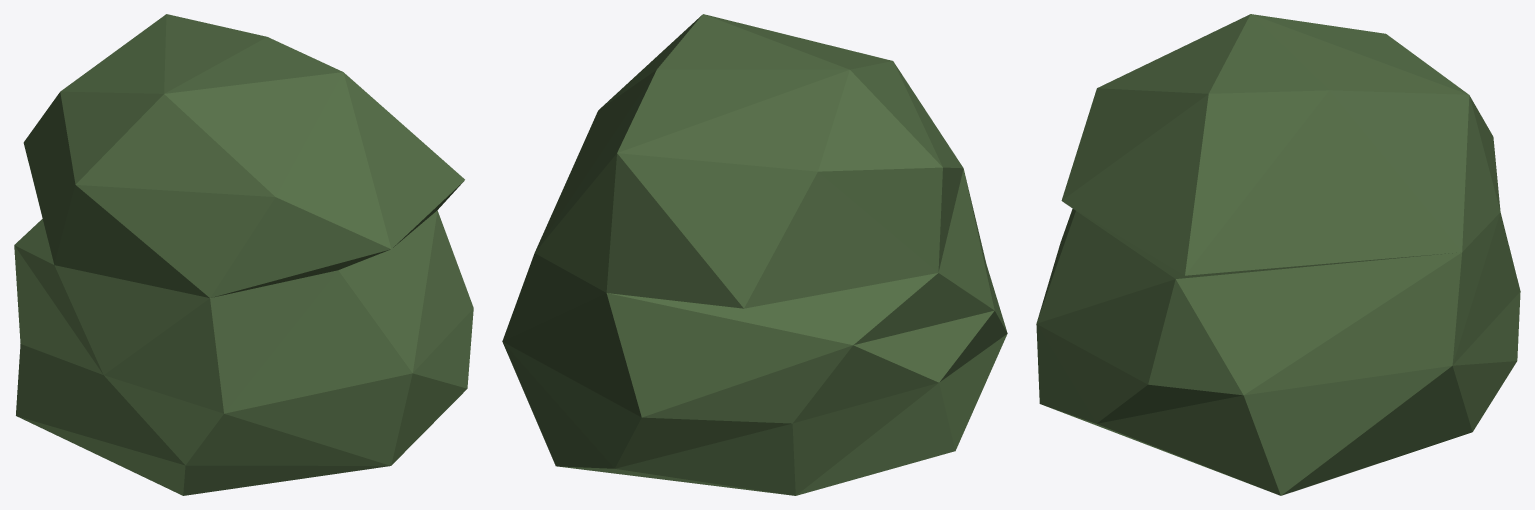
Rendered from Bush_2.lod2.glb.
3 renders of one model, left to right at view 1: azimuth 30°, elevation 25°; view 2: azimuth 150°, elevation 25°; view 3: azimuth 270°, elevation 25°, orthographic. The views are drawn at different scales.
Parts seen in each view (by area): view 1: Bush_2; view 2: Bush_2; view 3: Bush_2.
Part boxes in pixels (x1,y1,x2,y2): Bush_2: [14, 14, 473, 495]; Bush_2: [502, 14, 1007, 495]; Bush_2: [1036, 14, 1520, 495].
Bounding box in the file's own units: 1.3 × 1.06 × 1.28.
